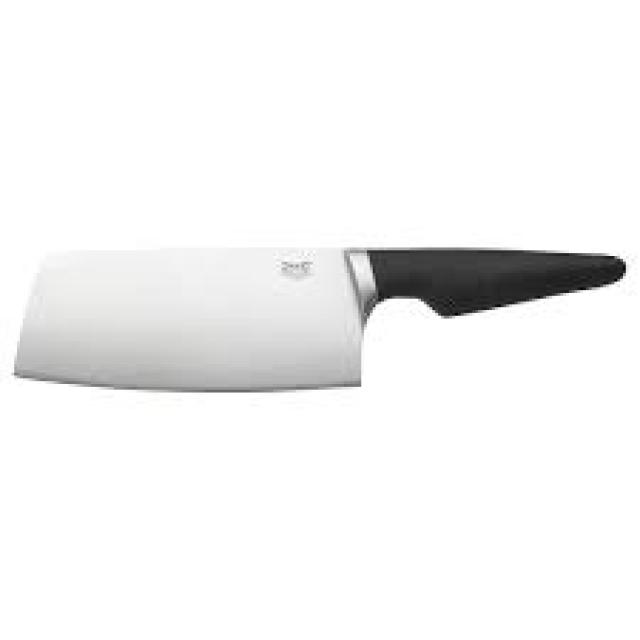Knife: (11, 245, 626, 395)
